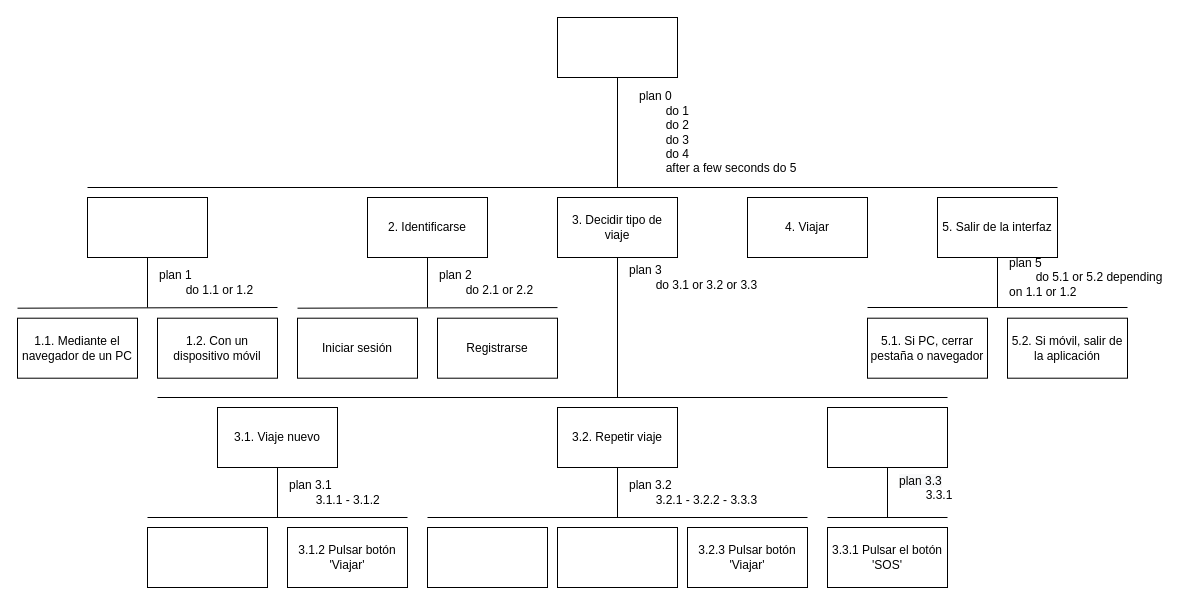
Some shapes in this 1195 by 605 pixel diagram are drawn without their labels. The shapes that lost their labels are listed below. From the top down, each one's centre as x and y in pixels, then its label:
At point 617,47: "0. Realizar un viaje".
At point 147,227: "1. Acceder a la interfaz de Traveller".
At point 887,437: "3.3. Viaje SOS".
At point 207,557: "3.1.2 Elegir destino".
At point 487,557: "3.2.1 Acceder al historial de viajes".
At point 617,557: "3.2.2 Seleccionar el viaje que se desea repetir".
